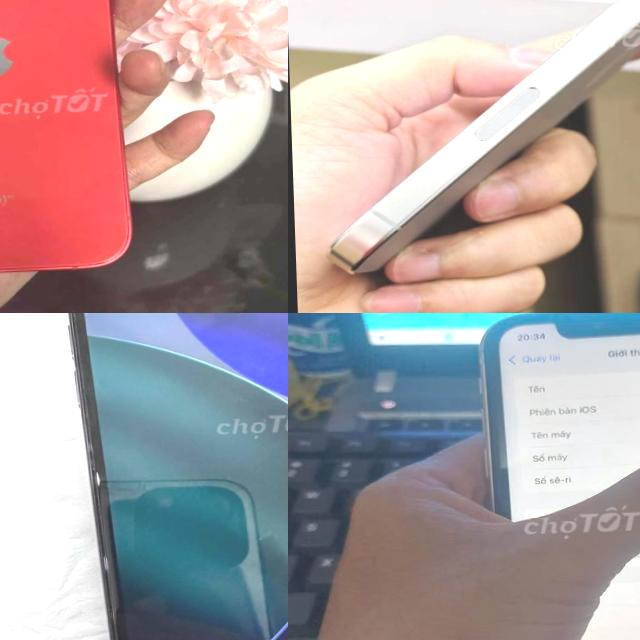gen_11: (476, 313, 640, 640), (0, 0, 142, 284)
gen_15: (43, 313, 288, 640)
gen_16: (328, 0, 640, 272)
scratch: (52, 313, 92, 427), (75, 438, 98, 461), (94, 551, 111, 573), (90, 466, 104, 490)
